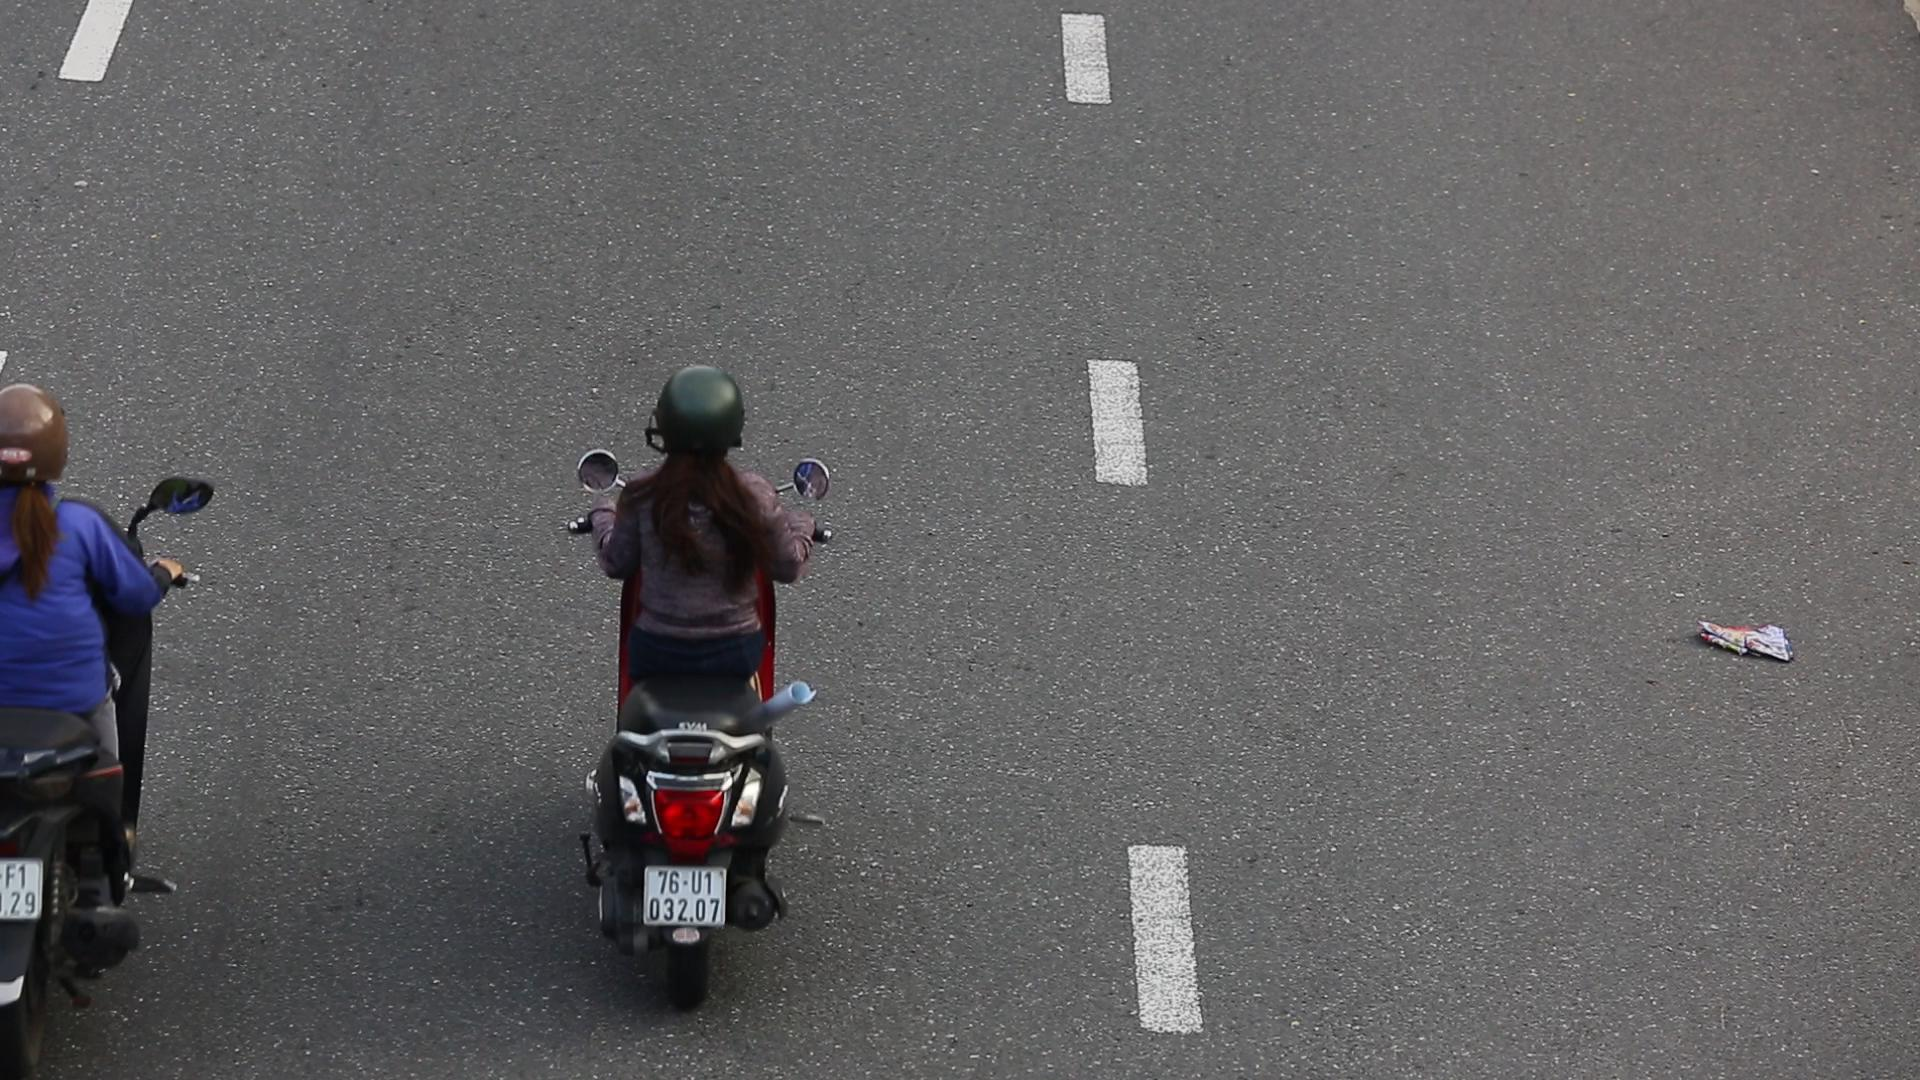motobike: (556, 359, 837, 1014)
